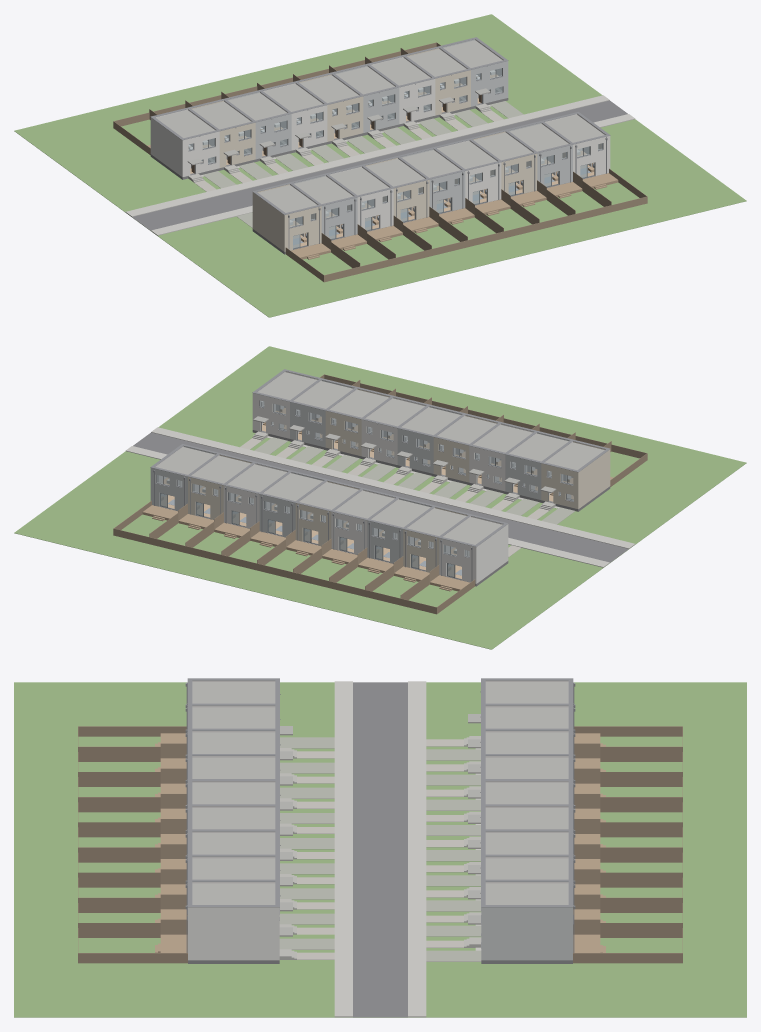
Rendered from rady19.glb.
3 renders of one model, top to bottom at view 1: azimuth 30°, elevation 25°; view 2: azimuth 150°, elevation 25°; view 3: azimuth 270°, elevation 25°, orthographic. The views are drawn at different scales.
Parts seen in each view (by area): view 1: teren, ploty, chodniky, cesta, dom1_stit_0, dom10_stit_1, dom3_fac2, dom4_fac0, dom2_fac1, dom5_fac1, dom1_fac0, dom7_fac0 (+31 smaller); view 2: teren, ploty, chodniky, cesta, dom1_stit_0, dom10_stit_1, dom14_fac2, dom10_fac1, dom13_fac1, dom12_fac0, dom11_fac2, dom16_fac1 (+31 smaller); view 3: teren, ploty, cesta, chodniky, zasteny, dom9_stit_2, dom18_stit_0, dom5_strecha, dom14_strecha, dom18_strecha, dom1_strecha, dom2_strecha (+45 smaller).
Part boxes in pixels (box(x1,y1,x2,y2)): teren: box(14, 14, 746, 317); ploty: box(113, 42, 647, 282); chodniky: box(125, 95, 635, 235); cesta: box(132, 100, 627, 230); dom1_stit_0: box(150, 117, 183, 177); dom10_stit_1: box(252, 192, 285, 251); dom3_fac2: box(227, 92, 291, 159); dom4_fac0: box(263, 83, 327, 150); dom2_fac1: box(191, 100, 255, 167); dom5_fac1: box(299, 74, 363, 141); dom1_fac0: box(155, 109, 219, 176); dom7_fac0: box(370, 57, 435, 124); teren: box(14, 346, 746, 649); ploty: box(113, 374, 647, 614); chodniky: box(125, 427, 635, 567); cesta: box(133, 432, 628, 562); dom1_stit_0: box(475, 524, 508, 583); dom10_stit_1: box(577, 449, 610, 509); dom14_fac2: box(397, 406, 461, 473); dom10_fac1: box(541, 441, 605, 508); dom13_fac1: box(433, 415, 497, 482); dom12_fac0: box(469, 424, 533, 491); dom11_fac2: box(505, 432, 569, 499); dom16_fac1: box(325, 389, 390, 456); teren: box(14, 682, 746, 1017); ploty: box(78, 726, 682, 963); cesta: box(353, 682, 407, 1017); chodniky: box(334, 681, 426, 1017); zasteny: box(160, 743, 600, 934); dom9_stit_2: box(481, 907, 572, 960); dom18_stit_0: box(188, 907, 279, 960); dom5_strecha: box(468, 782, 568, 823); dom14_strecha: box(192, 782, 292, 835); dom18_strecha: box(192, 883, 292, 936); dom1_strecha: box(468, 682, 568, 723); dom2_strecha: box(468, 707, 568, 748).
Size of the model in its own units: 86.5 by 6.94 by 80.
Materials: 3 (3 with a texture image).
